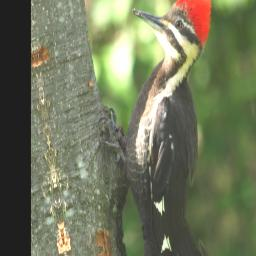Woodpecker: (85, 0, 239, 242)
